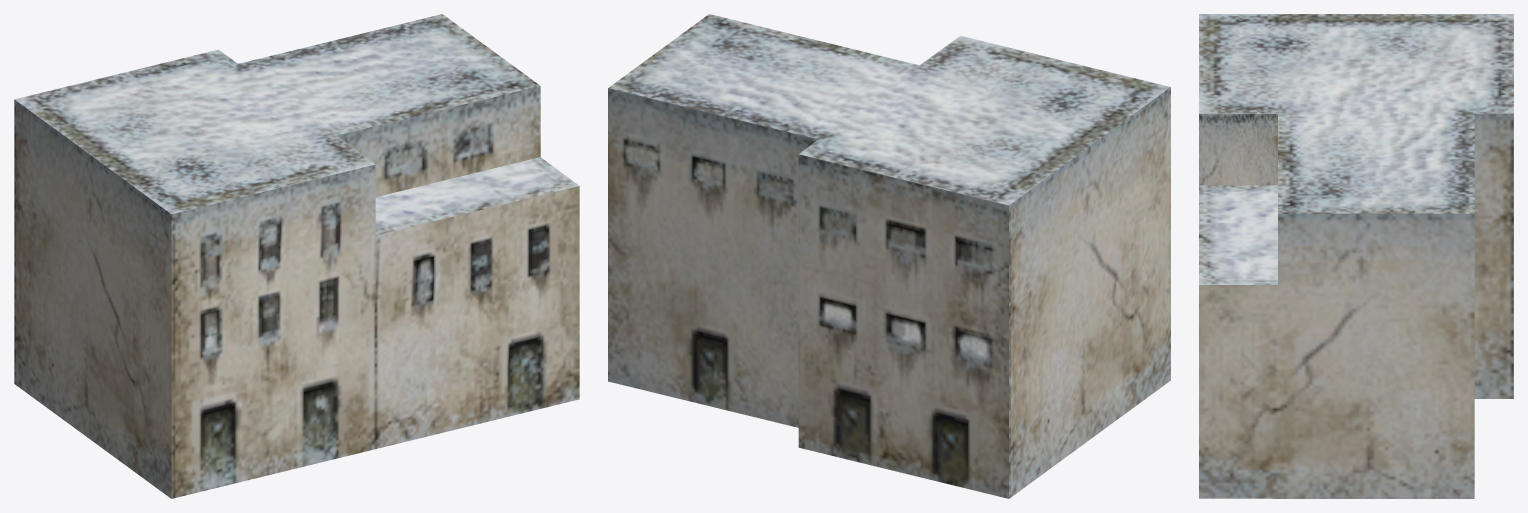
The model's file is Civilian - Commercial Building - Stan Hotel 01 - Snow and Night - CBThotel01_sn.glb.
The picture shows the model from 3 angles, left to right: view 1: azimuth 30°, elevation 25°; view 2: azimuth 150°, elevation 25°; view 3: azimuth 270°, elevation 25°; orthographic projection. The views are drawn at different scales.
Parts seen in each view (by area): view 1: CBTHOTEL01_SN; view 2: CBTHOTEL01_SN; view 3: CBTHOTEL01_SN.
Boxes of the visible parts, x1,y1,x2,y2 form: CBTHOTEL01_SN: (14, 14, 579, 498); CBTHOTEL01_SN: (608, 14, 1170, 498); CBTHOTEL01_SN: (1199, 14, 1513, 498).
Bounding box in the file's own units: 72.48 × 48.27 × 48.27.
1 material, 1 textured.
